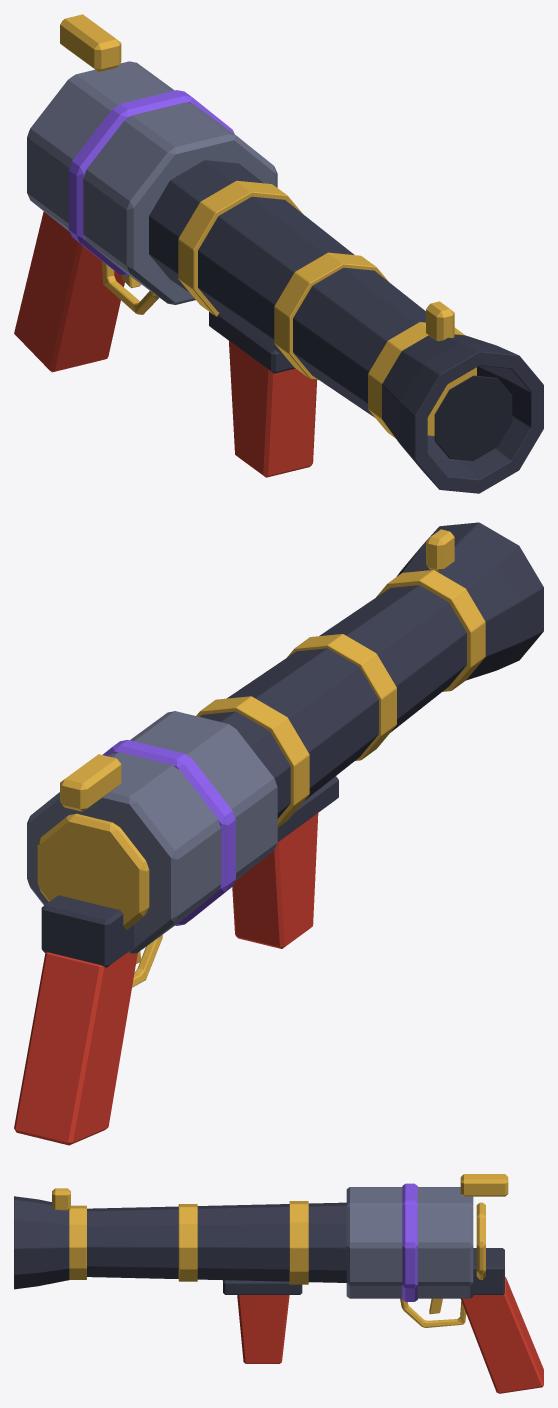
Rendered from myw_handcannon.glb.
3 views of the same model, one above another, from view 1: azimuth 30°, elevation 25°; view 2: azimuth 150°, elevation 25°; view 3: azimuth 270°, elevation 25° (orthographic). The views are drawn at different scales.
Parts seen in each view (by area): view 1: Barrel, Chamber, Frame; view 2: Barrel, Chamber, Frame; view 3: Barrel, Chamber, Frame.
Part boxes in pixels (left/top/right/bottom): Barrel: left=149, top=160, right=543, bottom=493; Chamber: left=27, top=14, right=454, bottom=341; Frame: left=14, top=211, right=317, bottom=477; Barrel: left=196, top=522, right=543, bottom=827; Chamber: left=27, top=529, right=454, bottom=954; Frame: left=14, top=776, right=338, bottom=1145; Barrel: left=14, top=1196, right=346, bottom=1289; Chamber: left=52, top=1174, right=508, bottom=1301; Frame: left=223, top=1248, right=543, bottom=1393.
Bounding box in the file's own units: 0.7021 × 1.46 × 3.35.
